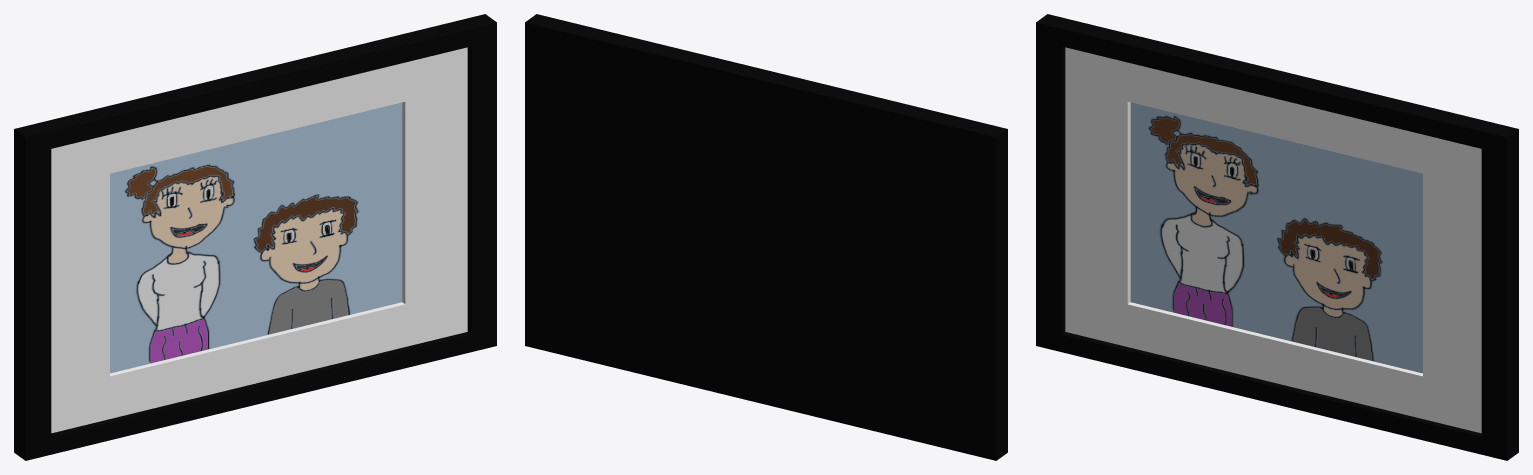
File: dooley_mom_photo_v2.3.fbx
3 views of the same model, side by side, from view 1: azimuth 30°, elevation 25°; view 2: azimuth 150°, elevation 25°; view 3: azimuth 330°, elevation 25° (orthographic).
Parts seen in each view (by area): view 1: Photo; view 2: Photo; view 3: Photo.
Boxes of the visible parts, x1,y1,x2,y2 form: Photo: (14,14,496,460); Photo: (525,14,1007,460); Photo: (1036,14,1518,460).
Size of the model in its own units: 125 by 81.87 by 5.31.
1 material, 1 textured.
